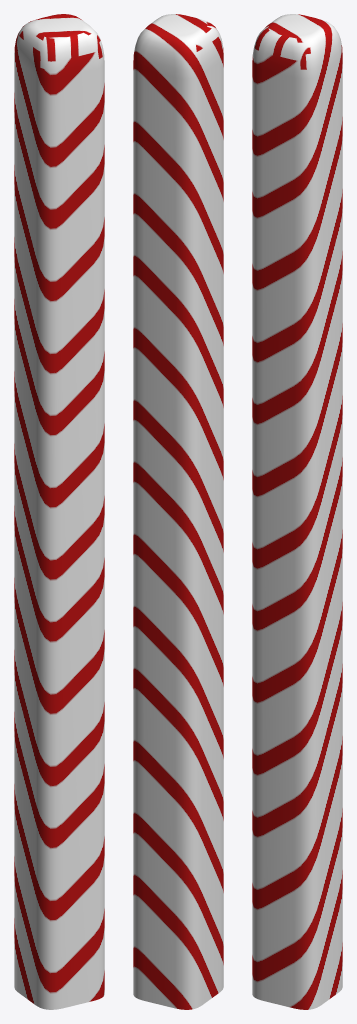
File: PeppermintStick.FBX
3 views of the same model, side by side, from view 1: azimuth 30°, elevation 25°; view 2: azimuth 150°, elevation 25°; view 3: azimuth 330°, elevation 25° (orthographic).
Visible parts, largest first — view 1: Box001; view 2: Box001; view 3: Box001.
Part boxes in pixels (left/top/right/bottom): Box001: left=14, top=14, right=104, bottom=1009; Box001: left=133, top=14, right=223, bottom=1009; Box001: left=252, top=14, right=342, bottom=1009.
Size of the model in its own units: 20 by 283 by 20.
Materials: 1 (1 with a texture image).
